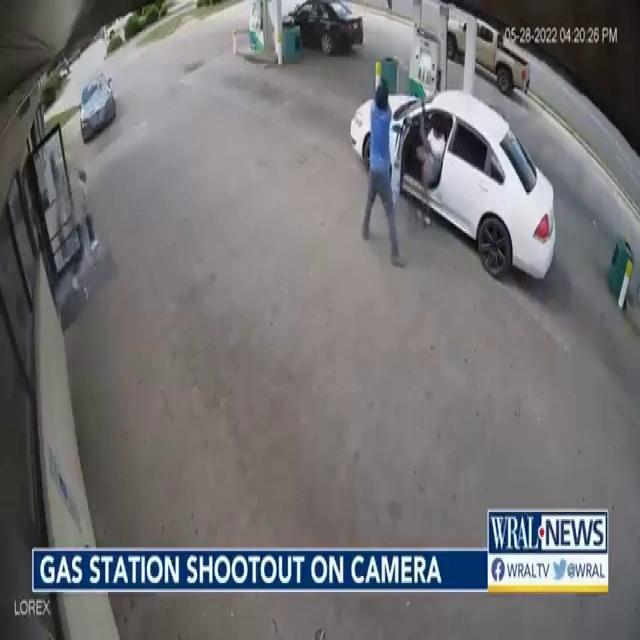normal: (359, 82, 406, 272)
